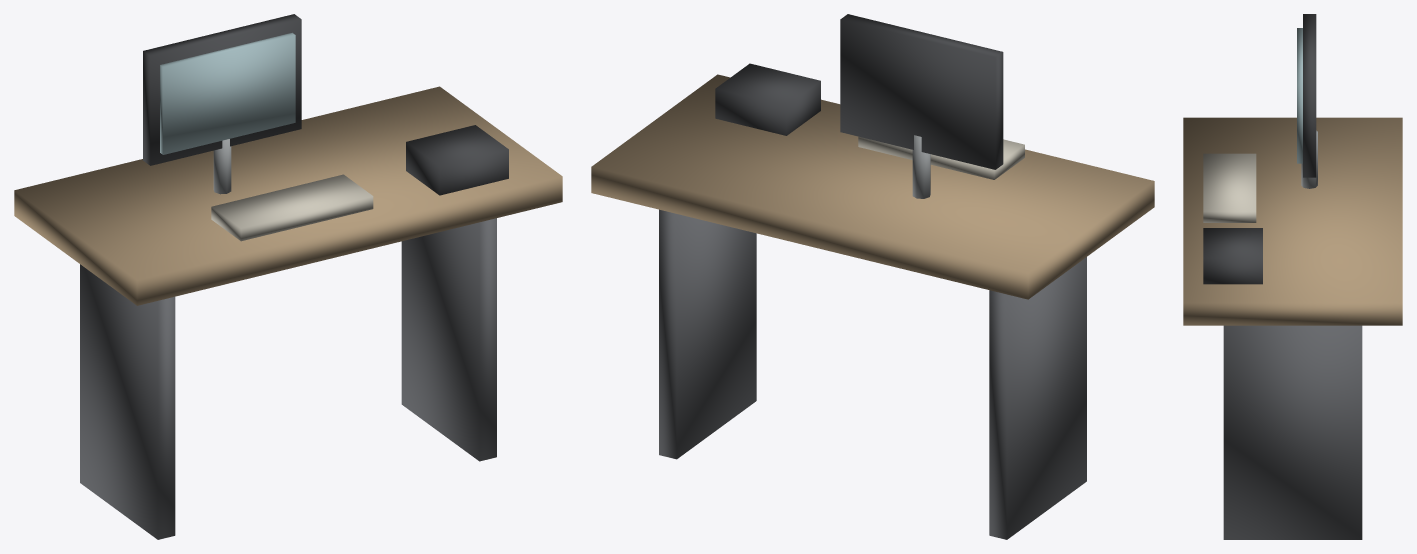
The model's file is modern_workstation__compact.glb.
3 views of the same model, side by side, from view 1: azimuth 30°, elevation 25°; view 2: azimuth 150°, elevation 25°; view 3: azimuth 270°, elevation 25° (orthographic). The views are drawn at different scales.
Parts seen in each view (by area): view 1: world; view 2: world; view 3: world.
Part boxes in pixels (bbox=[...]): world: bbox=[14, 14, 562, 539]; world: bbox=[591, 14, 1154, 539]; world: bbox=[1183, 14, 1402, 539].
Bounding box in the file's own units: 1.13 × 1.13 × 0.5676.
